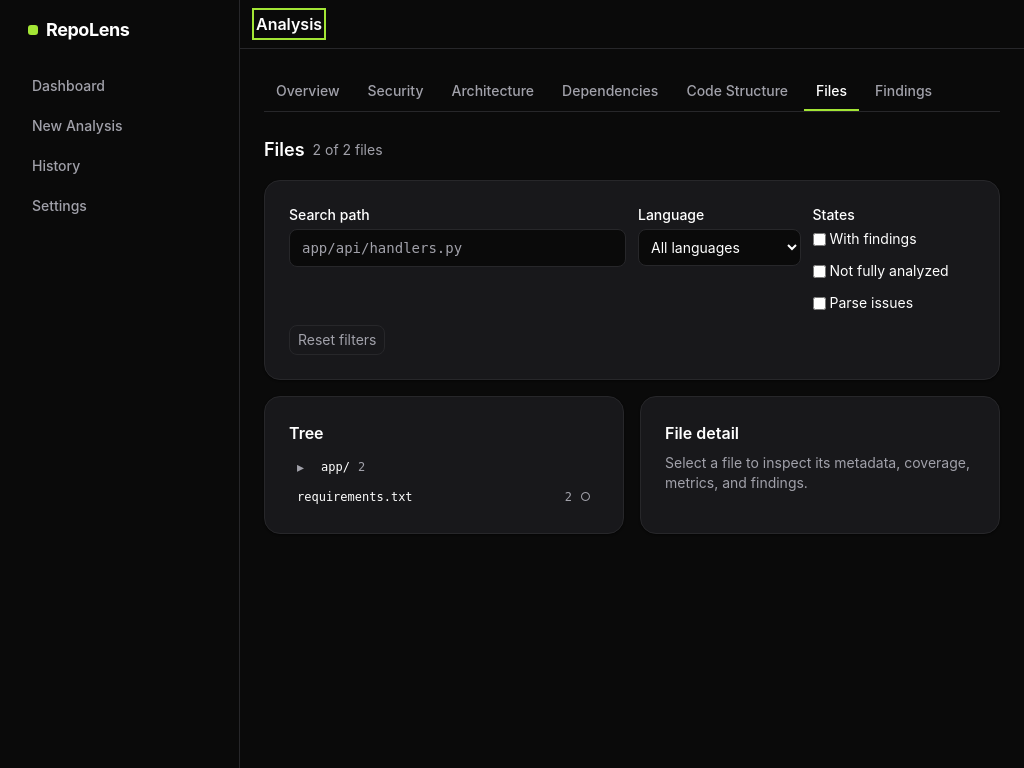
Test: Files explorer › selects a file and shows metadata, coverage, metrics, and findings
This screenshot has width=1024, height=768.
expect the heading "Files" is shown: met, box [264, 136, 304, 164]
Click the button "▸ app/ 2": click(301, 466) [289, 453, 599, 481]
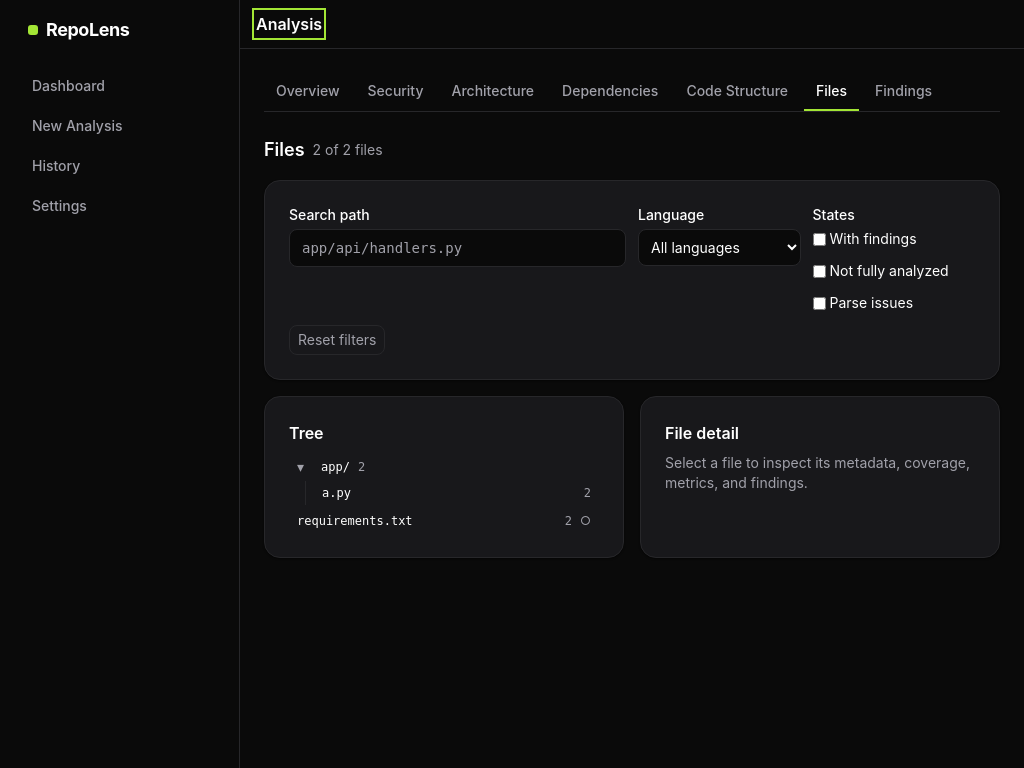
Click the button "a.py 2": click(336, 493) [314, 481, 599, 505]
(page scrolled)
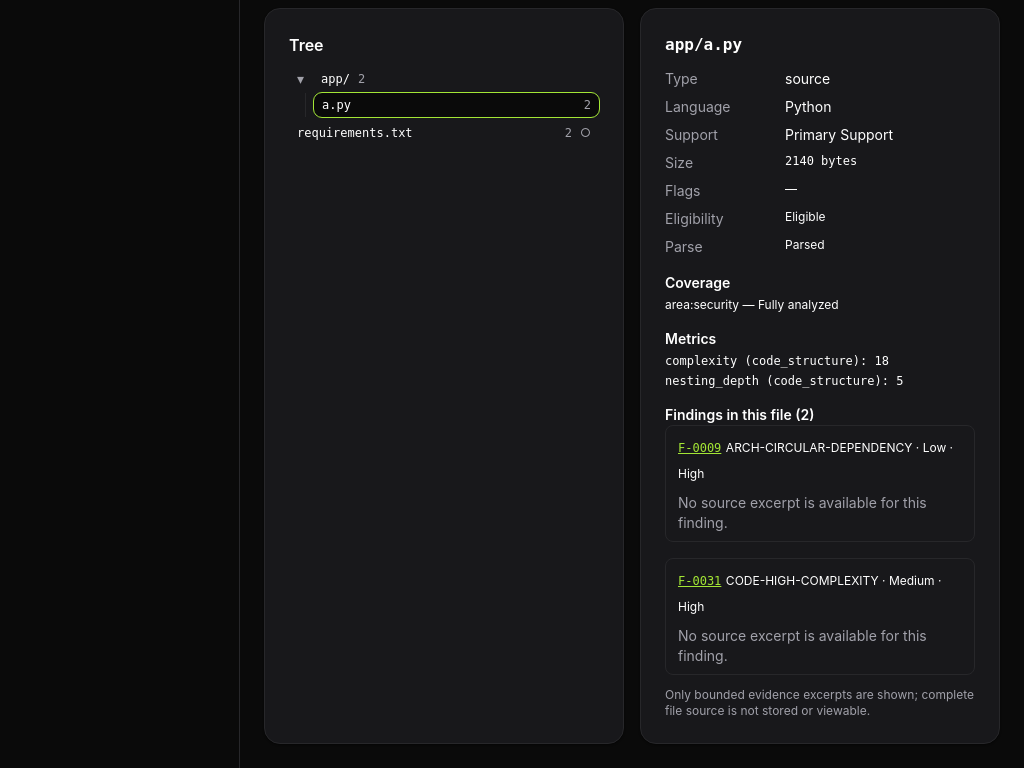
expect the heading "app/a.py" is shown: met, box [665, 35, 742, 54]
expect the text "Primary Support" is shown: met, box [785, 125, 893, 145]
expect the list item "area:security — Fully analyzed" is shown: met, box [665, 297, 839, 312]
